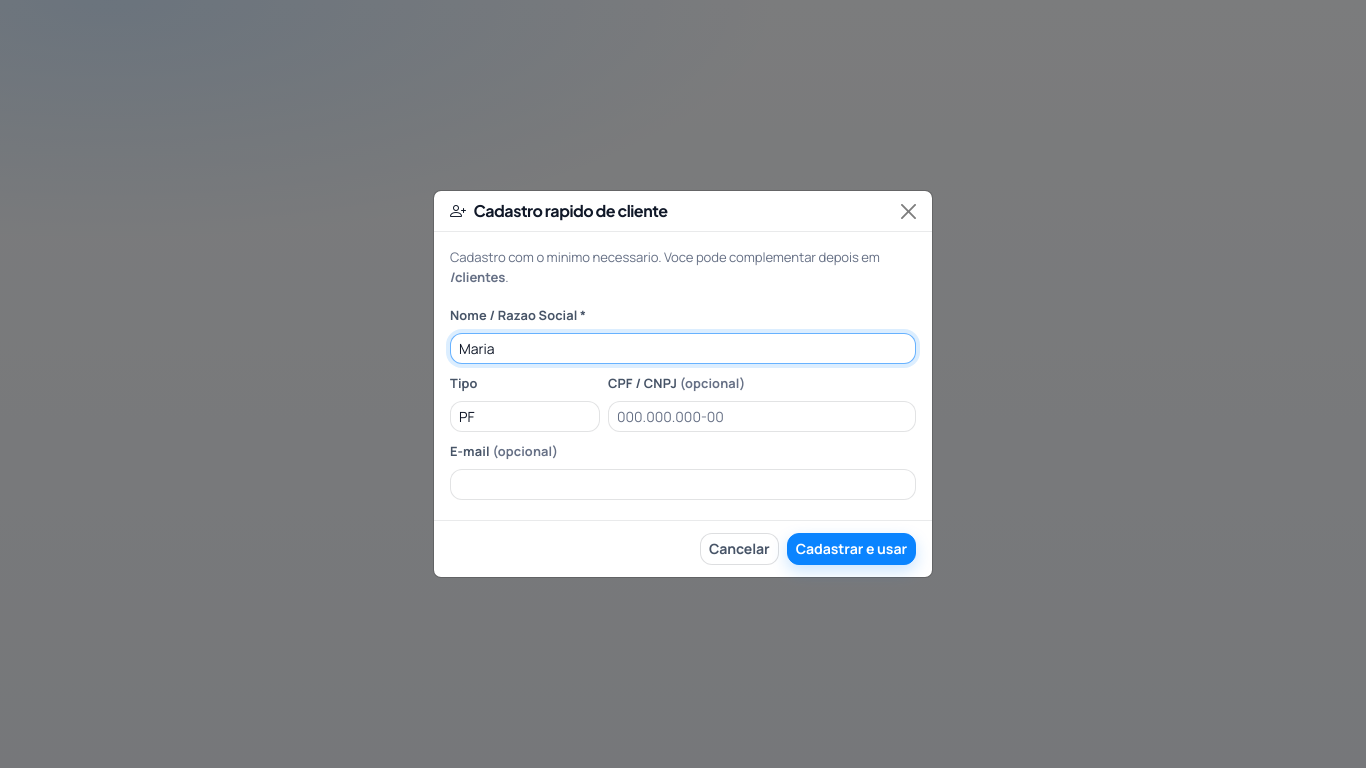
CadastrarClienteRapidoModal › valida email mal-formado
This screenshot has width=1366, height=768.
Type "nao-e-email" into the field labelled "E-mail (opcional)" at (683, 485), box 450,469 -> 916,500
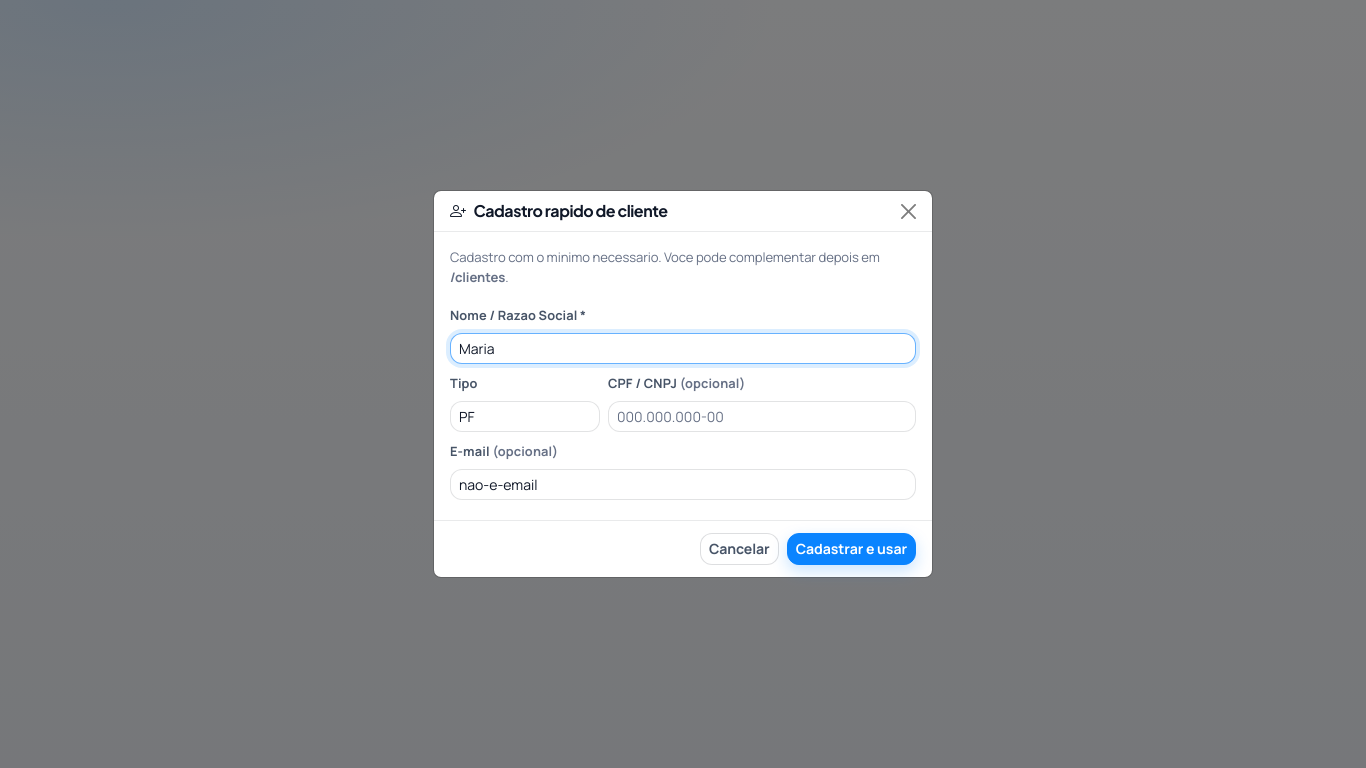
Click the button "Cadastrar e usar" at (851, 549), box 787,533 -> 916,564
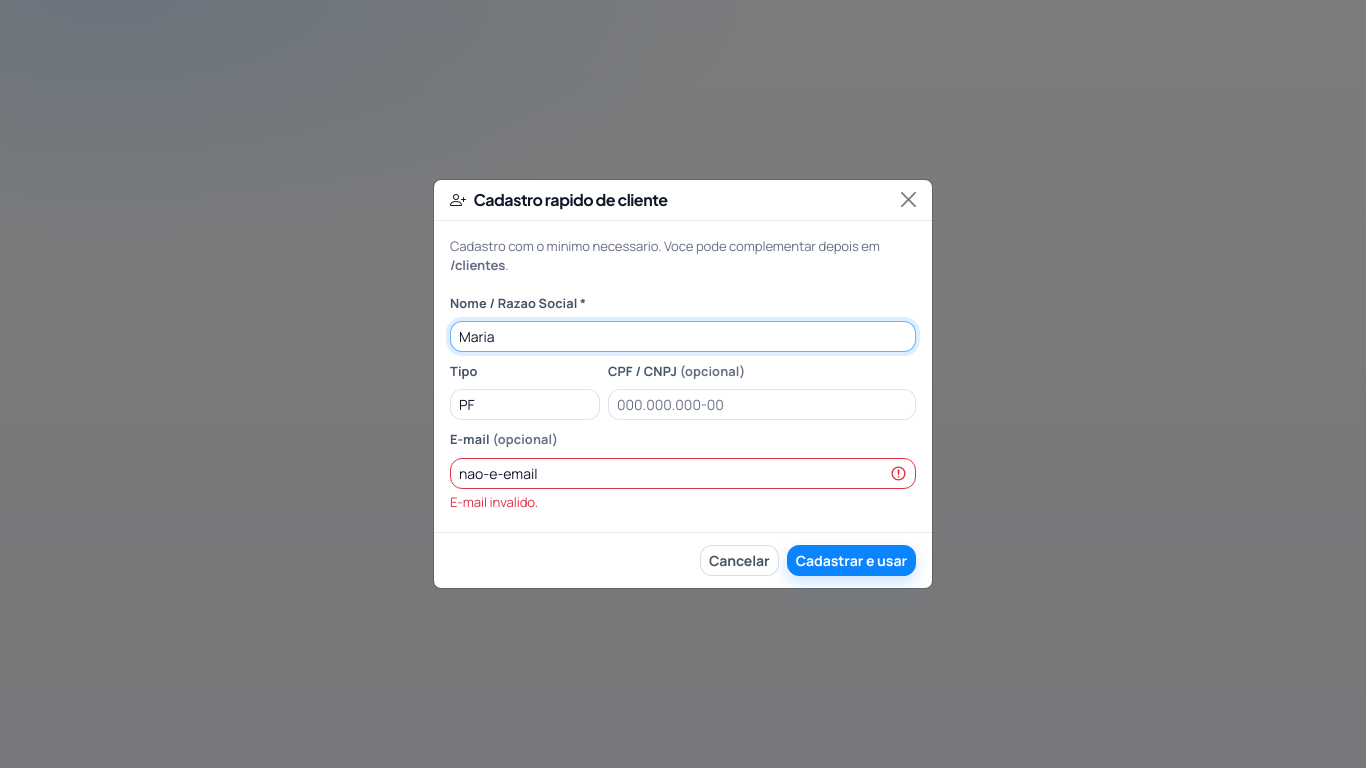
Expected: the text "E-mail invalido." is shown, 450,493 -> 538,511
